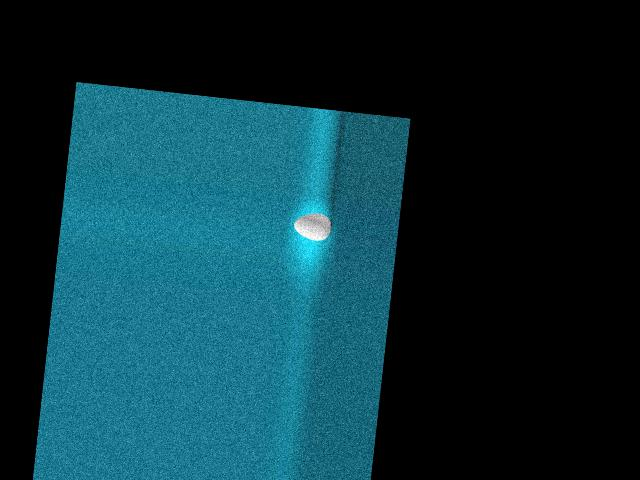egg: (293, 210, 333, 242)
